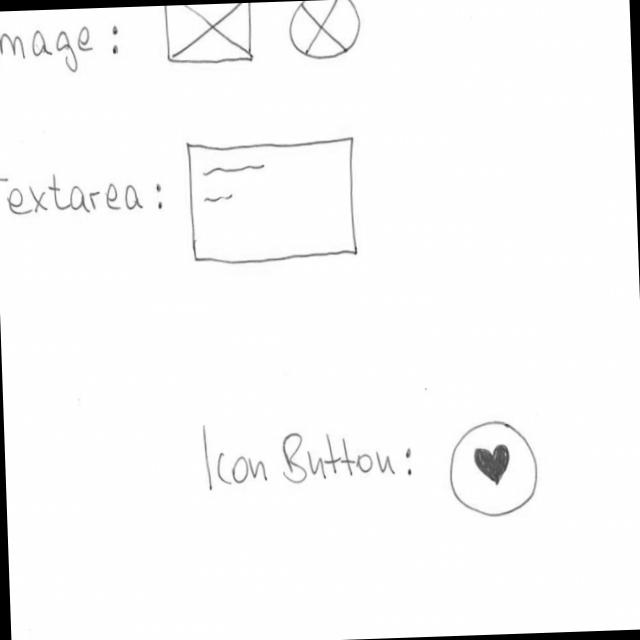icon-button: (446, 415, 541, 520)
image: (160, 4, 257, 71), (285, 1, 365, 64)
textarea: (186, 132, 363, 269)
